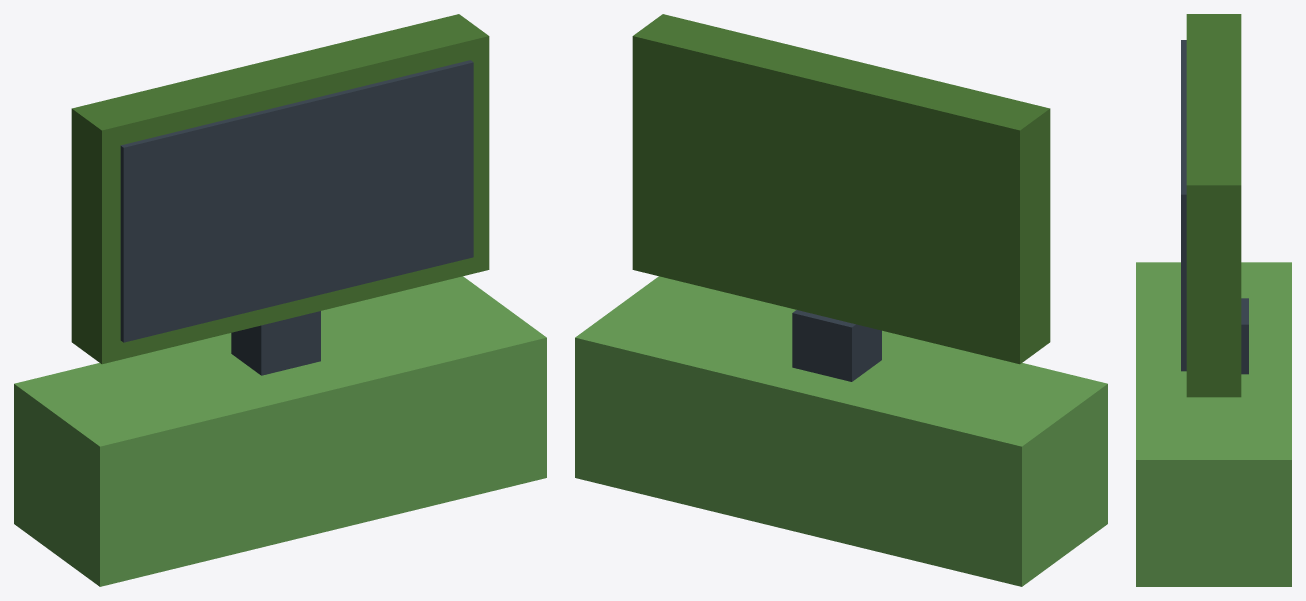
3 renders of one model, left to right at view 1: azimuth 30°, elevation 25°; view 2: azimuth 150°, elevation 25°; view 3: azimuth 270°, elevation 25°, orthographic. The views are drawn at different scales.
Visible parts, largest first — view 1: tv; view 2: tv; view 3: tv.
Boxes of the visible parts, bbox=[...] form: tv: bbox=[14, 14, 546, 586]; tv: bbox=[575, 14, 1107, 586]; tv: bbox=[1136, 14, 1291, 586].
Size of the model in its own units: 120 by 110 by 40.
